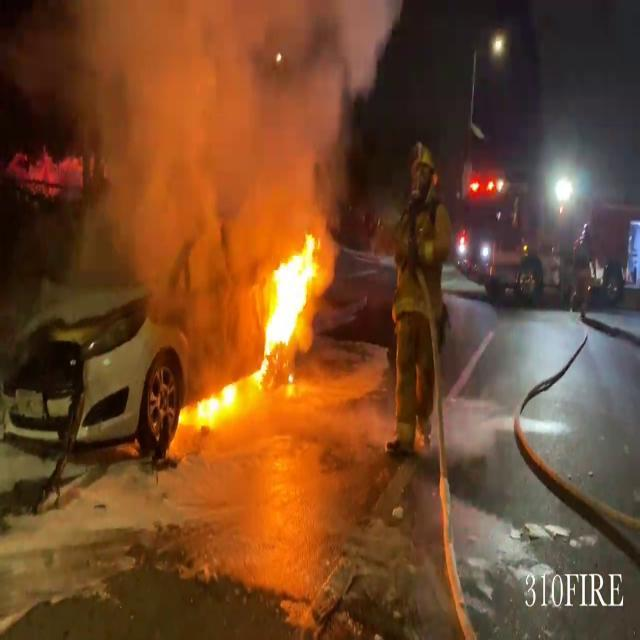Fire: (248, 228, 336, 382), (188, 354, 256, 432)
Smoke: (4, 0, 402, 252)
